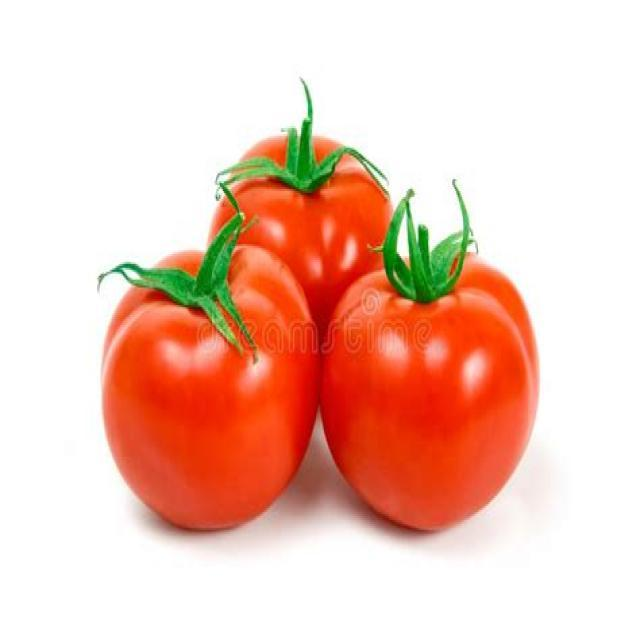Tomato: (320, 180, 540, 534), (101, 245, 319, 532), (217, 94, 393, 349)
